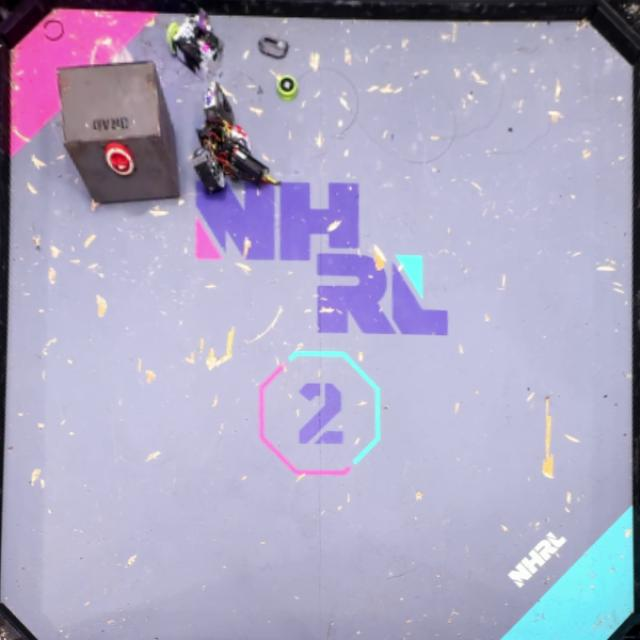housebot: (58, 59, 180, 204)
robot: (189, 81, 281, 198), (164, 8, 224, 78)
